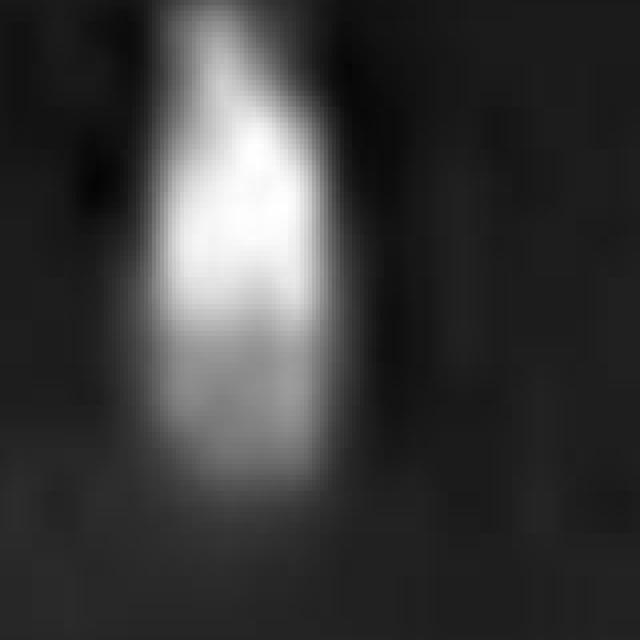person: (109, 1, 337, 513)
